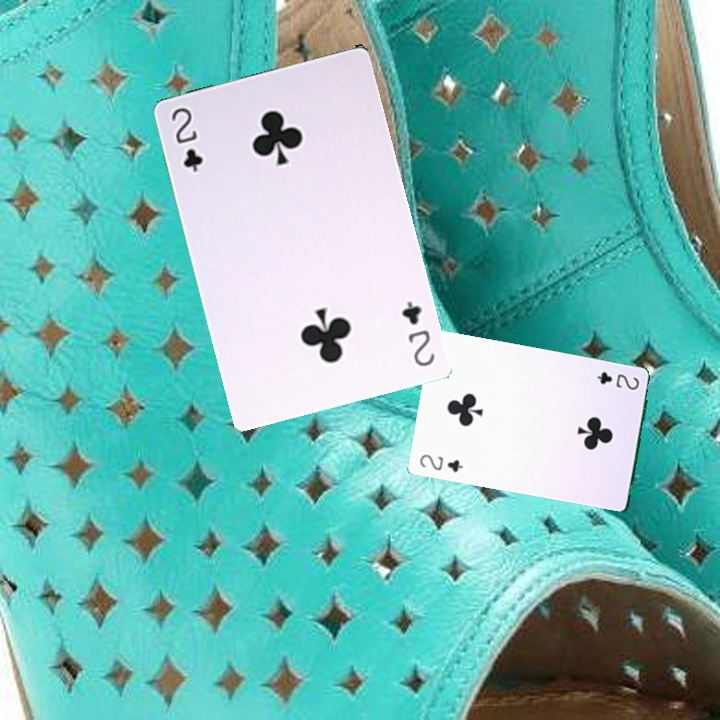2c: (397, 297, 437, 369), (167, 103, 206, 175), (415, 450, 465, 475), (593, 368, 642, 393)
